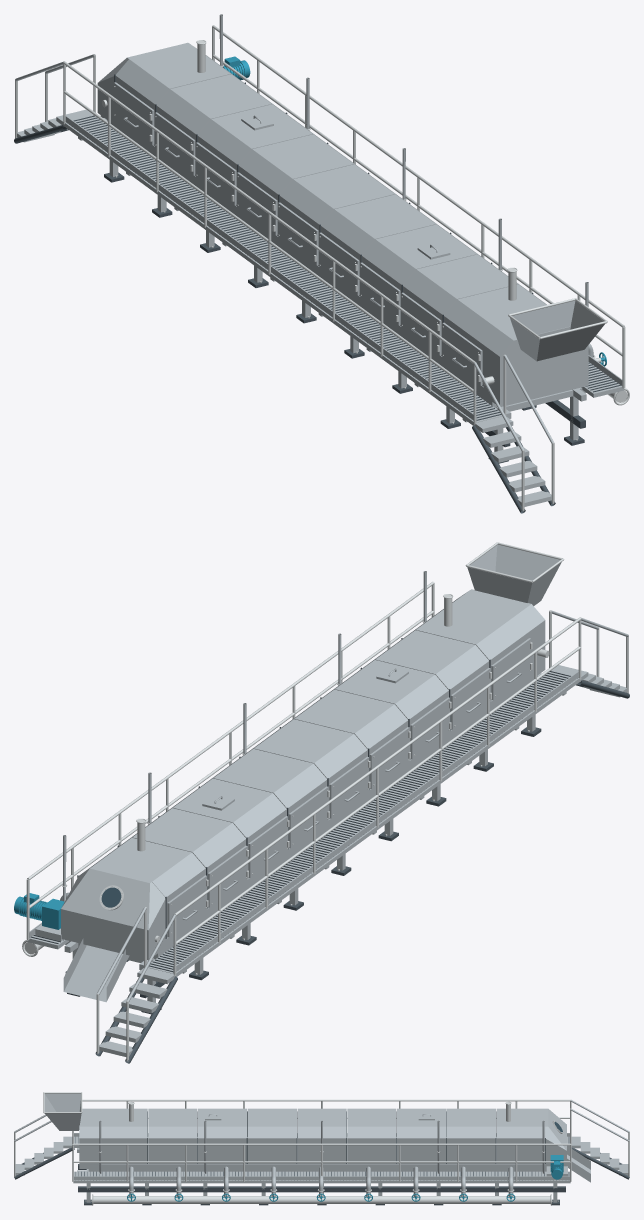
File: rice-steamer.glb
3 renders of one model, top to bottom at view 1: azimuth 30°, elevation 25°; view 2: azimuth 150°, elevation 25°; view 3: azimuth 270°, elevation 25°, orthographic. The views are drawn at different scales.
Parts seen in each view (by area): view 1: Walkway edge beam, Infeed continuous end enclosure, Chamber roof segment 06, Chamber roof segment 05, Chamber roof segment 04, Chamber roof segment 08, Chamber roof segment 02, Chamber roof segment 09, Chamber insulated base, Chamber roof segment 03, Chamber roof segment 07, Chamber roof segment 01 (+18 smaller); view 2: Walkway edge beam, Outfeed continuous sloped enclosure, Chamber roof segment 05, Chamber roof segment 04, Chamber roof segment 02, Chamber roof segment 06, Chamber roof segment 08, Chamber roof segment 09, Chamber roof segment 01, Chamber insulated base, Chamber roof segment 07, Chamber roof segment 03 (+18 smaller); view 3: Walkway edge beam.001, Chamber insulated base, Process manifold, Frame longitudinal rail.001, Chamber roof segment 04, Chamber roof segment 08, Chamber roof segment 06, Chamber roof segment 02, Chamber roof segment 05, Chamber roof segment 09, Chamber roof segment 01, Chamber roof segment 07 (+13 smaller).
Part boxes in pixels (bbox=[...]): Walkway edge beam: bbox=[64, 115, 501, 425]; Infeed continuous end enclosure: bbox=[484, 325, 588, 406]; Chamber roof segment 06: bbox=[238, 134, 365, 235]; Chamber roof segment 05: bbox=[279, 164, 406, 265]; Chamber roof segment 04: bbox=[320, 194, 447, 295]; Chamber roof segment 08: bbox=[156, 74, 283, 175]; Chamber roof segment 02: bbox=[403, 254, 527, 355]; Chamber roof segment 09: bbox=[115, 44, 243, 145]; Chamber insulated base: bbox=[107, 112, 496, 407]; Chamber roof segment 03: bbox=[361, 224, 486, 325]; Chamber roof segment 07: bbox=[197, 104, 324, 205]; Chamber roof segment 01: bbox=[444, 284, 546, 386]; Walkway edge beam: bbox=[148, 670, 580, 976]; Outfeed continuous sloped enclosure: bbox=[61, 867, 165, 959]; Chamber roof segment 05: bbox=[243, 719, 367, 819]; Chamber roof segment 04: bbox=[284, 689, 408, 789]; Chamber roof segment 02: bbox=[364, 630, 489, 730]; Chamber roof segment 06: bbox=[202, 749, 327, 848]; Chamber roof segment 08: bbox=[123, 808, 246, 908]; Chamber roof segment 09: bbox=[79, 838, 205, 937]; Chamber roof segment 01: bbox=[404, 600, 529, 700]; Chamber insulated base: bbox=[153, 667, 537, 959]; Chamber roof segment 07: bbox=[164, 778, 286, 878]; Chamber roof segment 03: bbox=[325, 660, 448, 759]; Walkway edge beam.001: bbox=[73, 1171, 570, 1183]; Chamber insulated base: bbox=[88, 1138, 550, 1171]; Process manifold: bbox=[93, 1196, 550, 1203]; Frame longitudinal rail.001: bbox=[78, 1186, 565, 1192]; Chamber roof segment 04: bbox=[247, 1108, 296, 1163]; Chamber roof segment 08: bbox=[446, 1108, 495, 1163]; Chamber roof segment 06: bbox=[347, 1108, 396, 1163]; Chamber roof segment 02: bbox=[148, 1108, 197, 1163]; Chamber roof segment 05: bbox=[297, 1108, 346, 1163]; Chamber roof segment 09: bbox=[496, 1108, 545, 1163]; Chamber roof segment 01: bbox=[98, 1108, 147, 1163]; Chamber roof segment 07: bbox=[397, 1108, 446, 1163].
Bounding box in the file's own units: 3.25 × 2.64 × 15.84.
